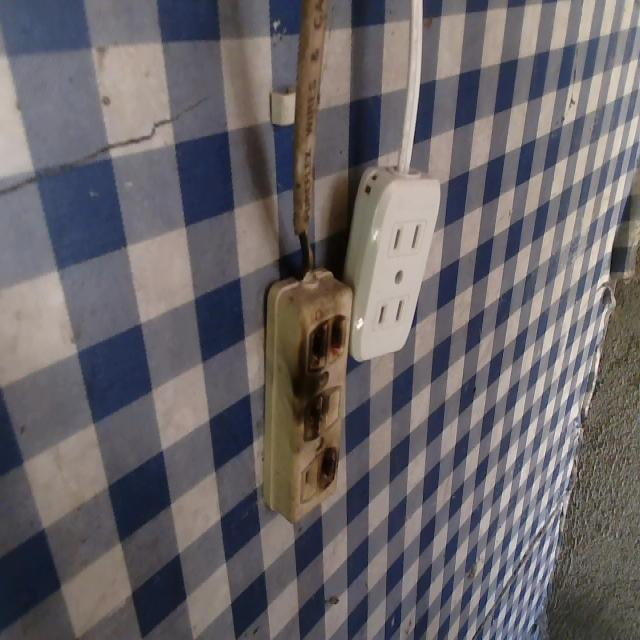-: (299, 308, 352, 376), (293, 386, 330, 450), (316, 446, 342, 494)
